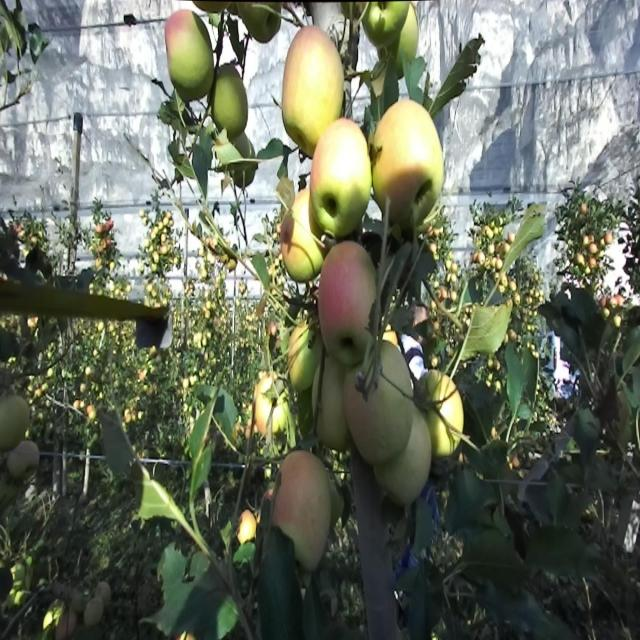apple: (368, 92, 445, 219), (376, 99, 445, 240), (272, 447, 344, 569), (284, 20, 345, 160), (312, 115, 376, 240), (320, 241, 377, 345), (284, 184, 331, 292), (276, 454, 331, 546), (164, 13, 216, 105), (384, 420, 431, 508), (432, 376, 464, 460), (344, 372, 378, 446), (212, 77, 249, 142), (316, 390, 351, 455), (256, 376, 287, 439), (390, 6, 420, 68), (432, 404, 464, 460), (288, 326, 313, 396), (0, 397, 31, 453), (244, 6, 283, 48), (432, 376, 464, 420), (296, 531, 327, 574), (364, 6, 390, 50), (428, 369, 457, 407), (44, 611, 76, 638), (84, 596, 104, 631), (240, 511, 258, 549), (96, 582, 112, 610), (196, 6, 224, 18)
